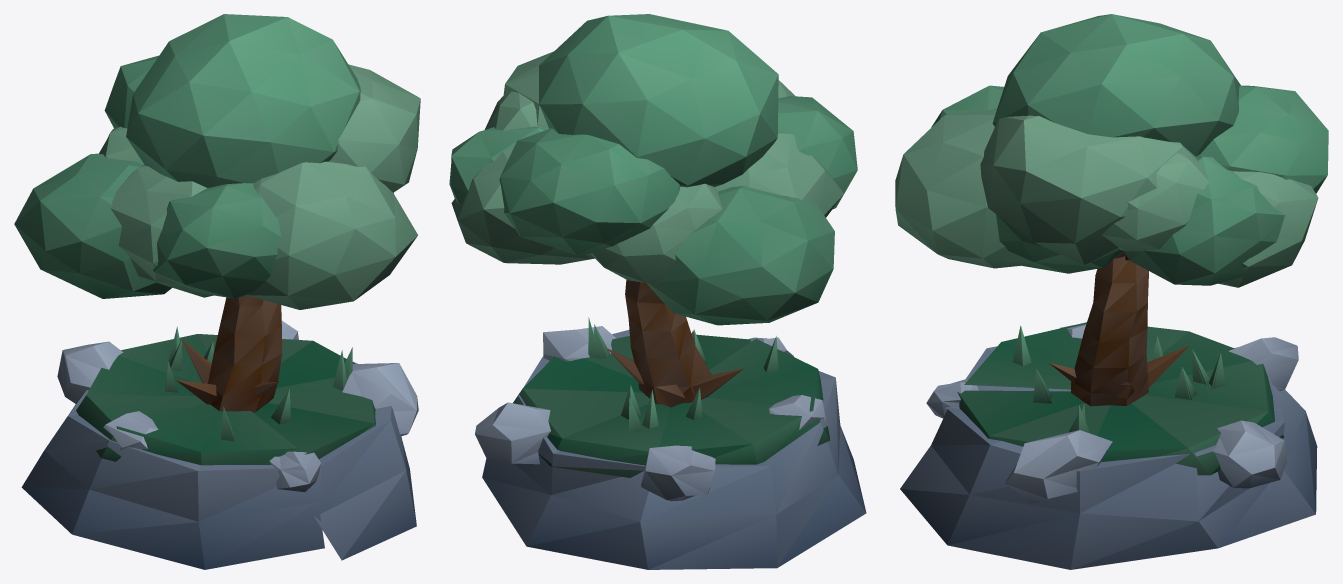
Rendered from pohon_oak_emerald_459146.glb.
The picture shows the model from 3 angles, left to right: view 1: azimuth 30°, elevation 25°; view 2: azimuth 150°, elevation 25°; view 3: azimuth 270°, elevation 25°; orthographic projection. The views are drawn at different scales.
Parts seen in each view (by area): view 1: Dedaunan_Kanopi, Pulau_Batu_Tepi_Sungai, Batang_Dan_Akar; view 2: Dedaunan_Kanopi, Pulau_Batu_Tepi_Sungai, Batang_Dan_Akar; view 3: Dedaunan_Kanopi, Pulau_Batu_Tepi_Sungai, Batang_Dan_Akar.
Part boxes in pixels (x1,y1,x2,y2): Dedaunan_Kanopi: (14,14,420,309); Pulau_Batu_Tepi_Sungai: (21,320,418,569); Batang_Dan_Akar: (176,295,284,412); Dedaunan_Kanopi: (449,14,857,325); Pulau_Batu_Tepi_Sungai: (475,317,866,569); Batang_Dan_Akar: (607,279,744,407); Dedaunan_Kanopi: (895,14,1328,287); Pulau_Batu_Tepi_Sungai: (900,322,1317,569); Batang_Dan_Akar: (1048,251,1189,406).
Bounding box in the file's own units: 5.49 × 6.87 × 5.64.
